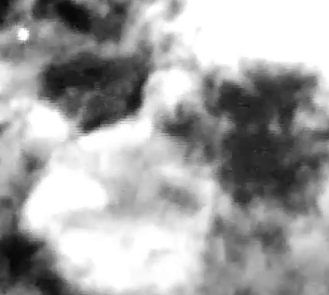Target: (18, 29, 30, 41)
